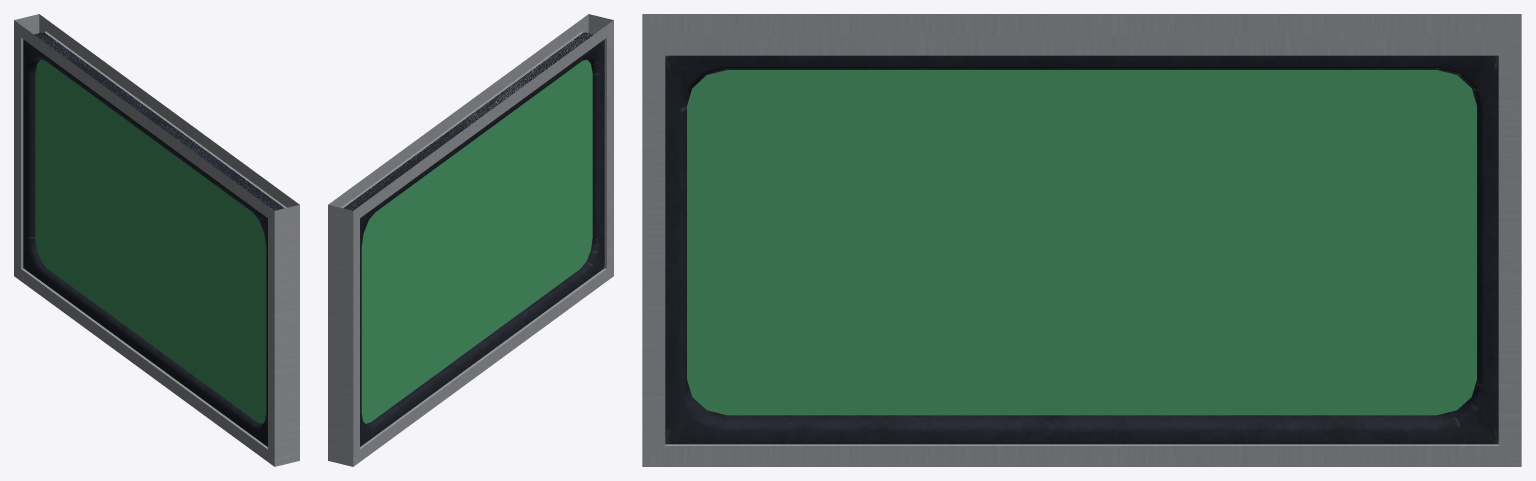
Rendered from WindowFrame.fbx.
The picture shows the model from 3 angles, left to right: view 1: azimuth 30°, elevation 25°; view 2: azimuth 150°, elevation 25°; view 3: azimuth 270°, elevation 25°; orthographic projection. The views are drawn at different scales.
Parts seen in each view (by area): view 1: WindowGlass, WindowFrameA4; view 2: WindowGlass, WindowFrameA4; view 3: WindowGlass, WindowFrameA4.
Part boxes in pixels (x1=…): WindowGlass: x1=35, y1=60, x2=266, y2=423; WindowFrameA4: x1=14, y1=14, x2=299, y2=466; WindowGlass: x1=361, y1=60, x2=592, y2=423; WindowFrameA4: x1=328, y1=14, x2=613, y2=466; WindowGlass: x1=687, y1=70, x2=1476, y2=415; WindowFrameA4: x1=642, y1=14, x2=1521, y2=466.
Bounding box in the file's own units: 14.83 × 144 × 266.
